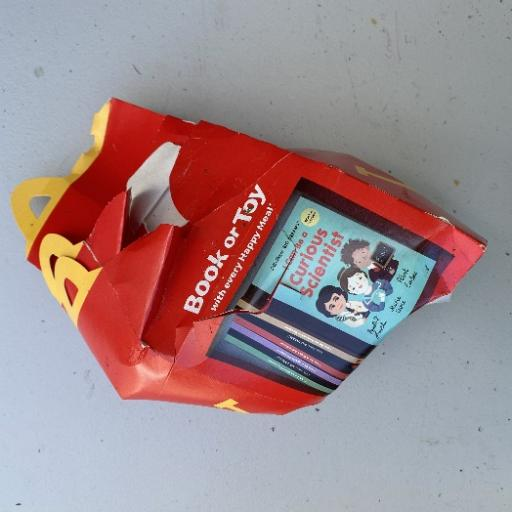Cardboard: (12, 96, 488, 416)
